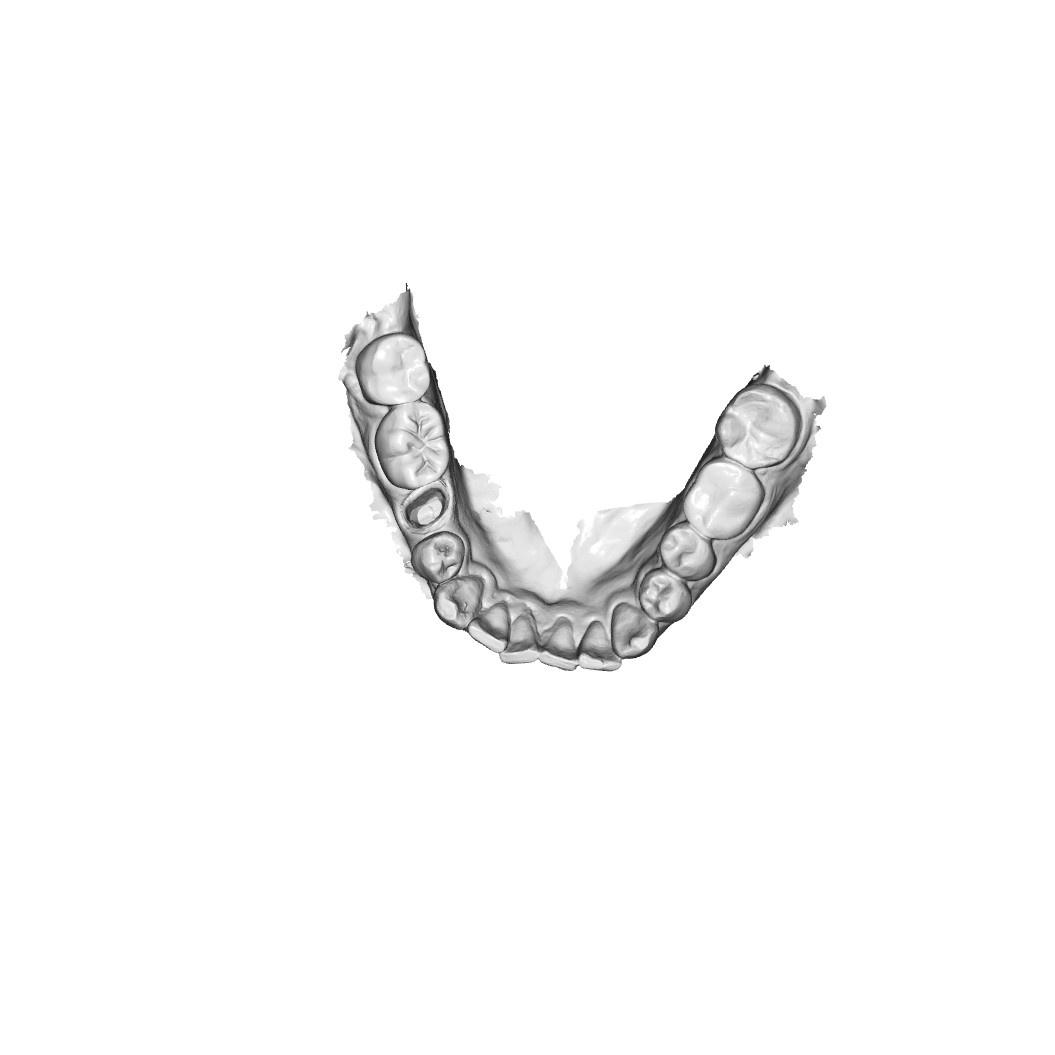canine: (433, 575, 484, 631), (610, 602, 659, 660)
crown: (400, 478, 452, 535)
incisor: (577, 620, 623, 672), (467, 602, 510, 654), (499, 611, 539, 665), (538, 620, 578, 672)
molar: (715, 383, 803, 470), (681, 454, 766, 541), (373, 400, 452, 491), (354, 331, 432, 407)
premolar: (659, 521, 717, 581), (638, 567, 693, 624), (410, 530, 466, 584)
